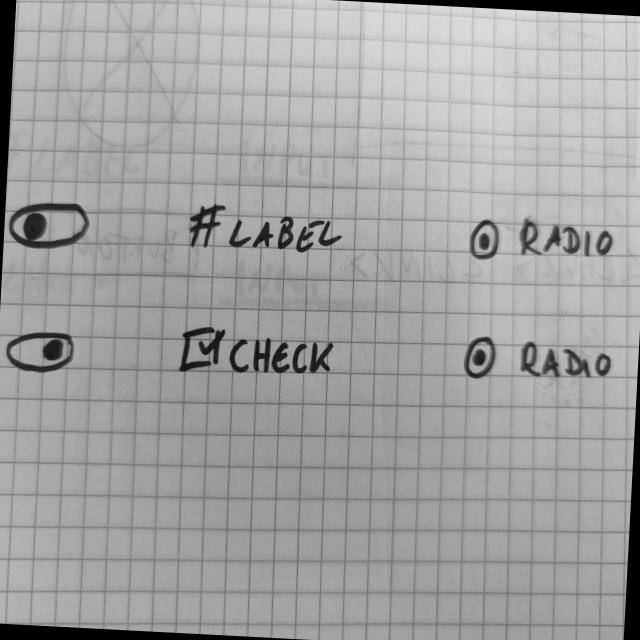checkbox: (178, 321, 339, 388)
label: (187, 199, 348, 260)
radio: (467, 213, 617, 274), (464, 335, 617, 388)
toggle: (5, 199, 95, 255), (6, 327, 79, 379)
